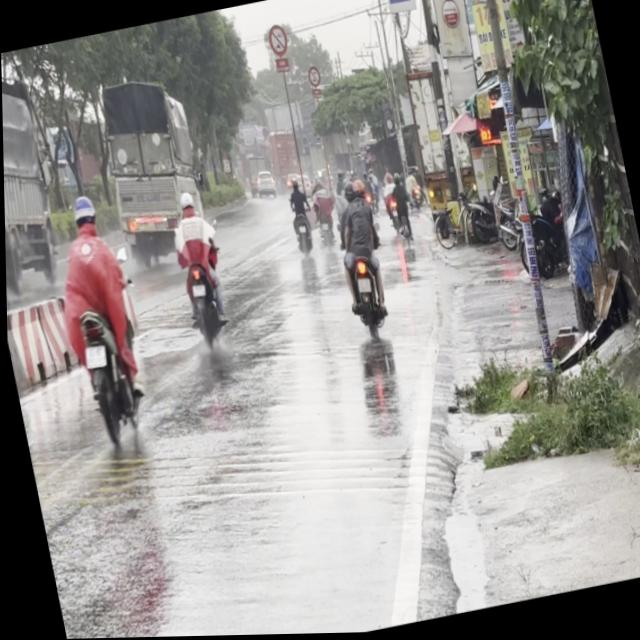helmet: (65, 191, 97, 236)
licenseplate: (37, 186, 157, 455)
nohelmet: (79, 342, 103, 368)
